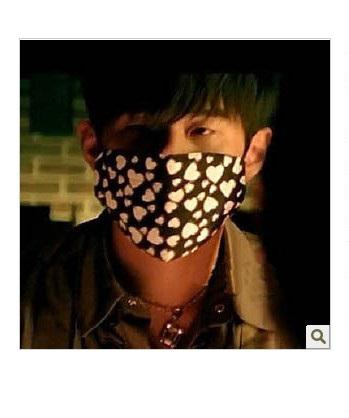OK: (97, 102, 253, 258)
